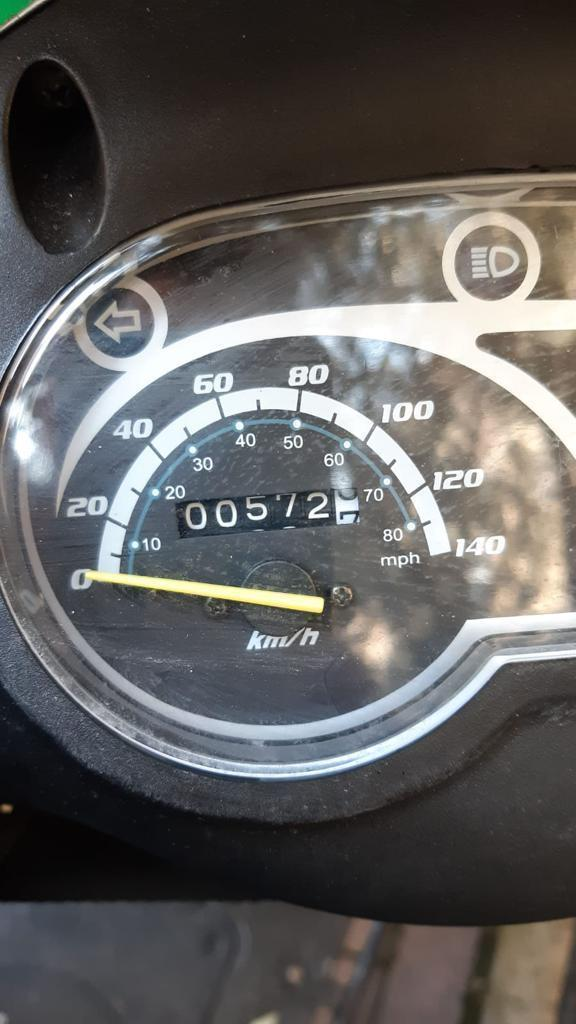0: (214, 497, 238, 528), (184, 501, 208, 530), (175, 484, 186, 498)
2: (305, 490, 331, 520)
5: (244, 494, 269, 522)
7: (274, 491, 300, 518), (337, 509, 359, 524)
odometer: (172, 484, 363, 540)
